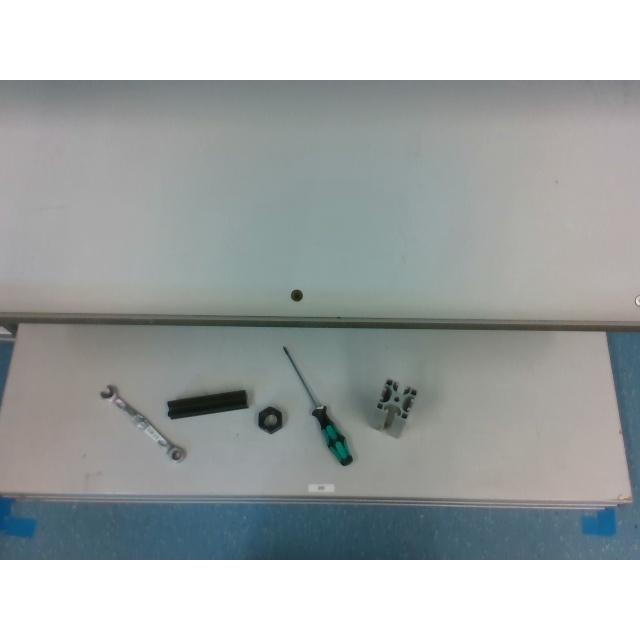F20_20_B: (168, 389, 248, 418)
M20: (258, 406, 282, 434)
S40_40_G: (372, 379, 416, 437)
Screwdriver: (284, 346, 352, 466)
Wrench: (100, 384, 186, 461)
